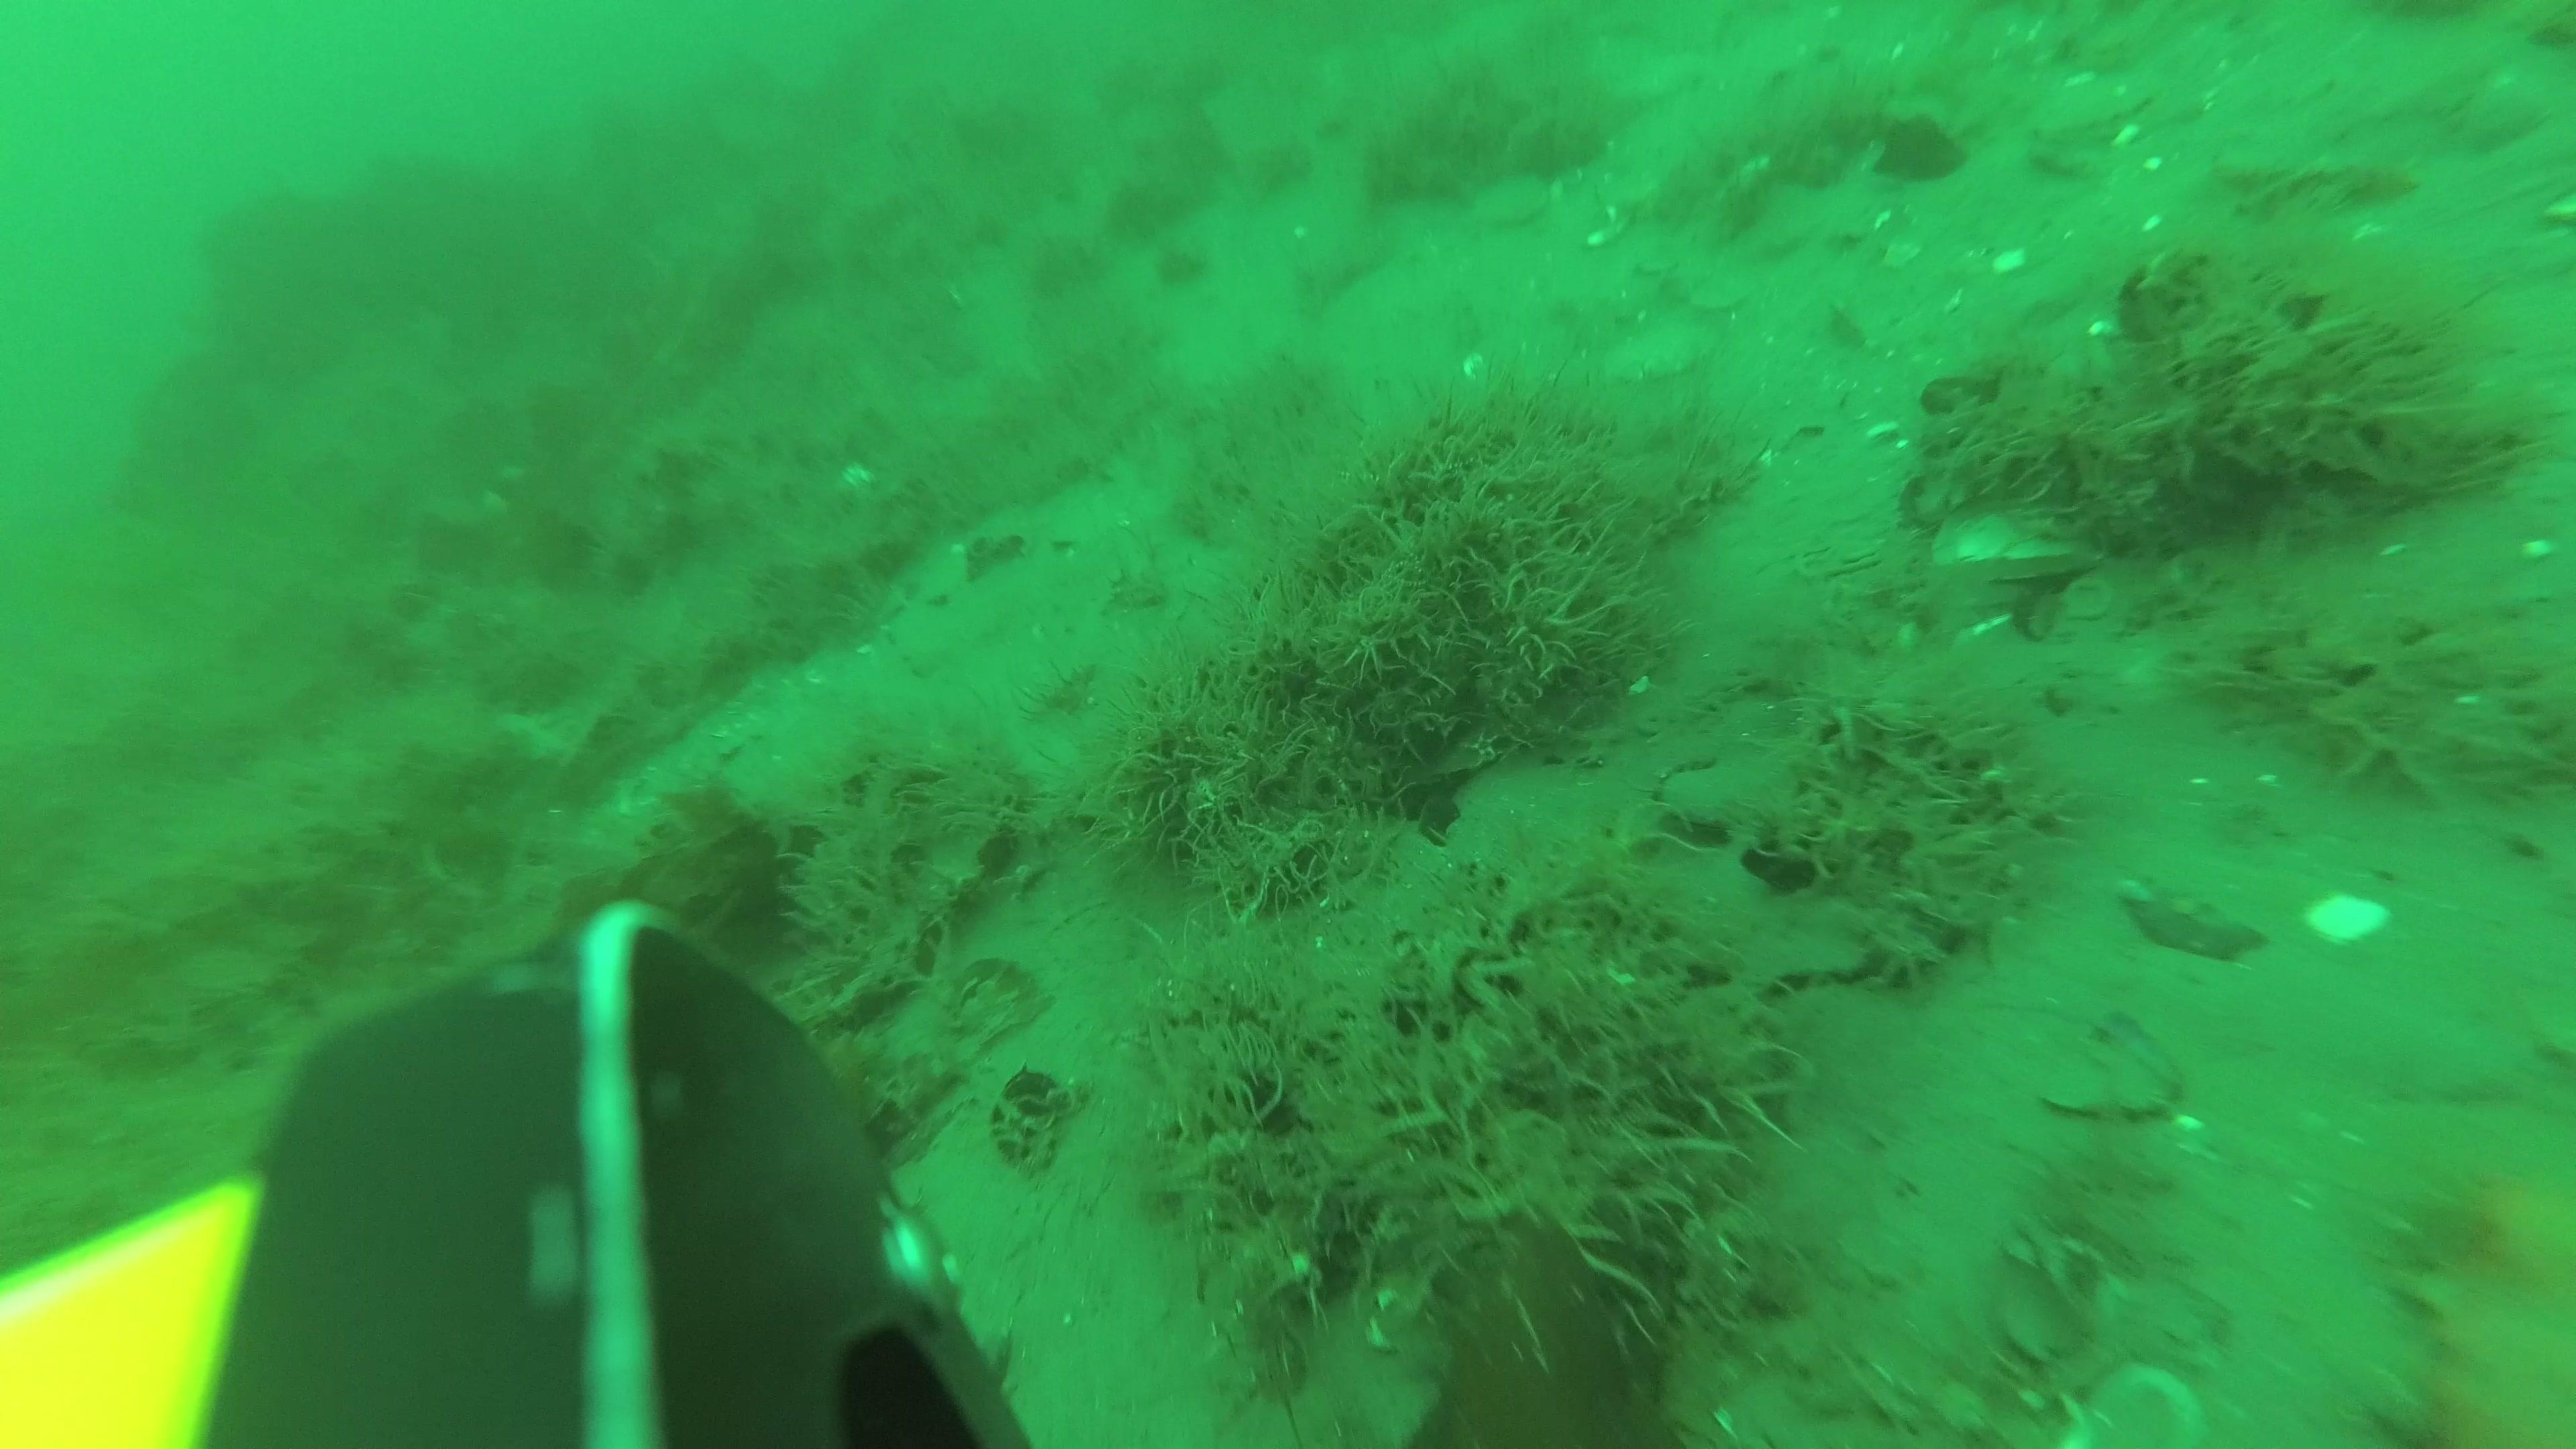scallop: (2066, 1355, 2194, 1449), (2038, 1035, 2174, 1122), (2024, 74, 2157, 131), (2304, 888, 2392, 950), (1608, 326, 1723, 372), (1474, 173, 1555, 225)
